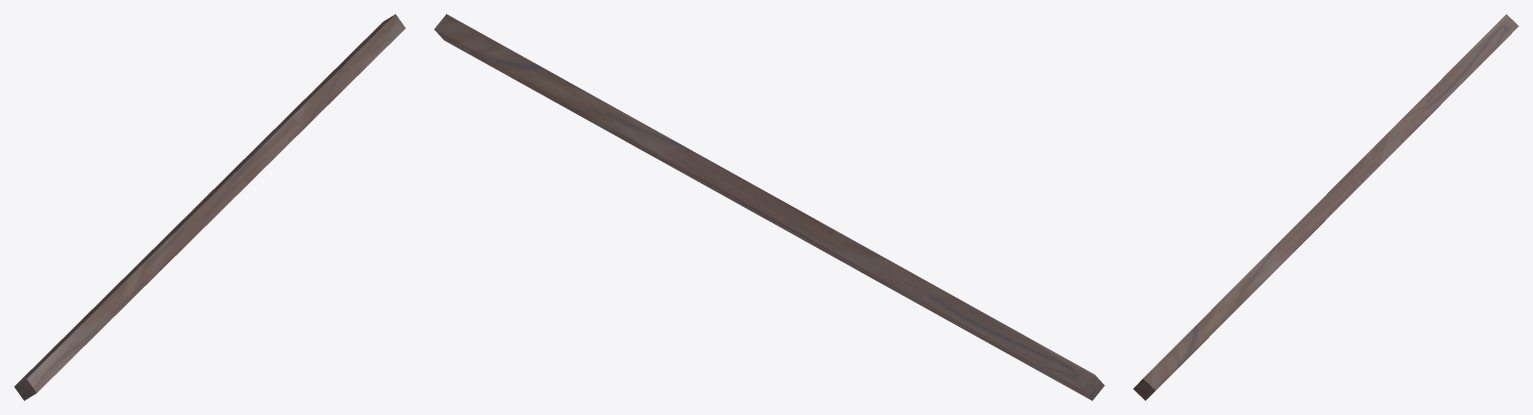
The model's file is stay_003.fbx.
3 views of the same model, side by side, from view 1: azimuth 90°, elevation 25°; view 2: azimuth 150°, elevation 25°; view 3: azimuth 270°, elevation 25° (orthographic). The views are drawn at different scales.
Visible parts, largest first — view 1: stay.003; view 2: stay.003; view 3: stay.003.
Boxes of the visible parts, <box> form: stay.003: <box>14,14,405,400</box>; stay.003: <box>434,14,1104,400</box>; stay.003: <box>1133,14,1518,400</box>.
Bounding box in the file's own units: 254 × 7.96 × 113.
